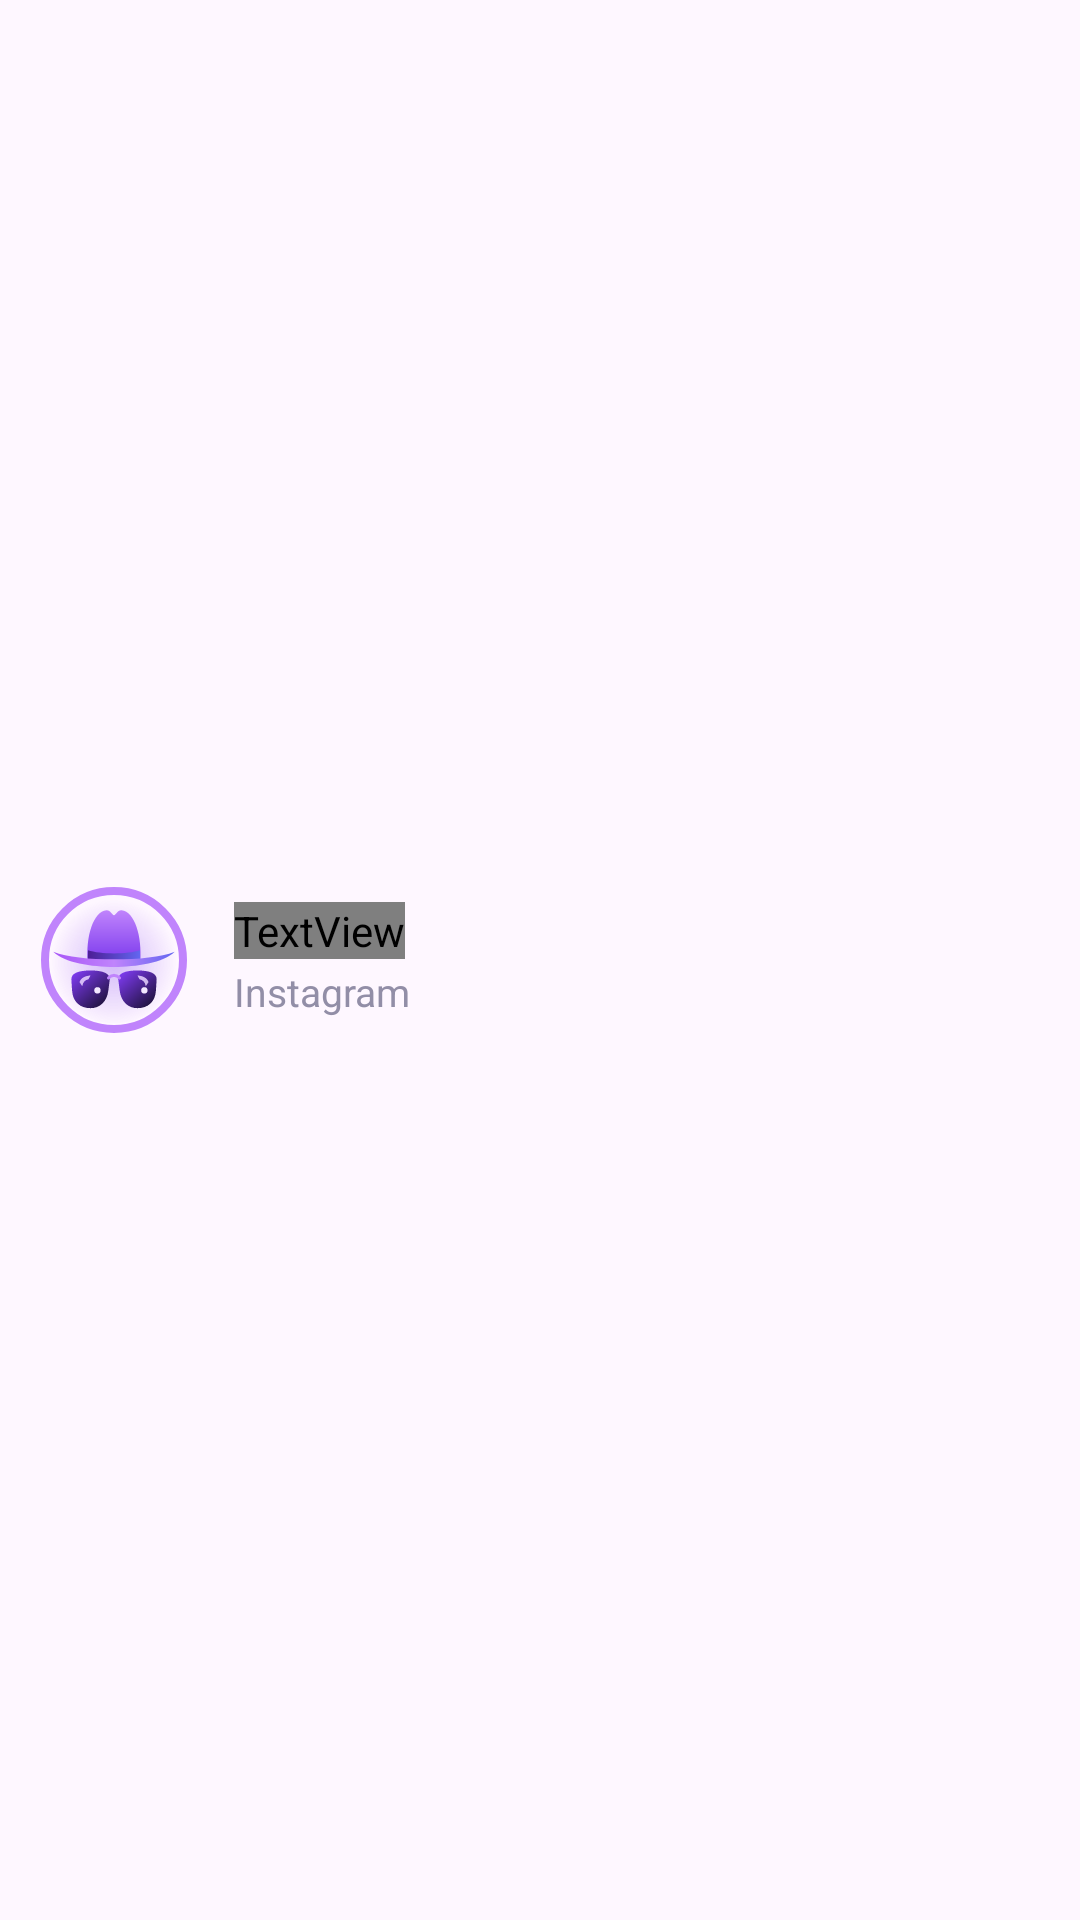

Screen size 1080px×1920px. Icon name, then its box in pixels as (x1, y1, x2, y2):
spy hat glasses: (41, 887, 187, 1033)
